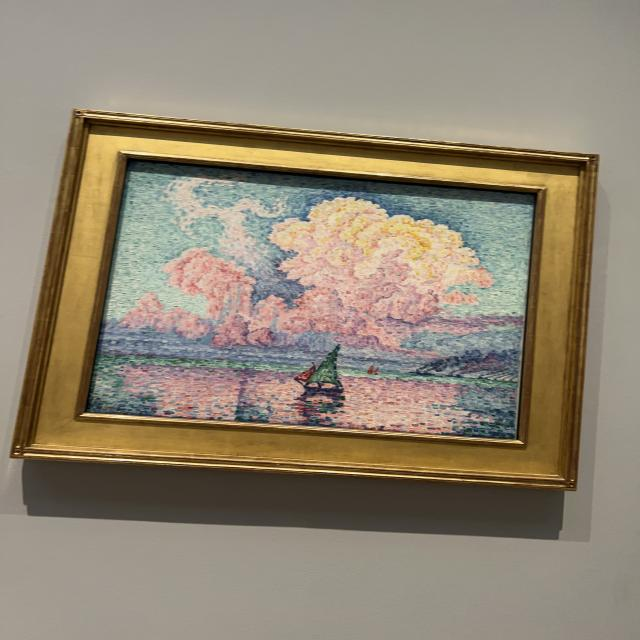sunrise: (89, 164, 532, 435)
